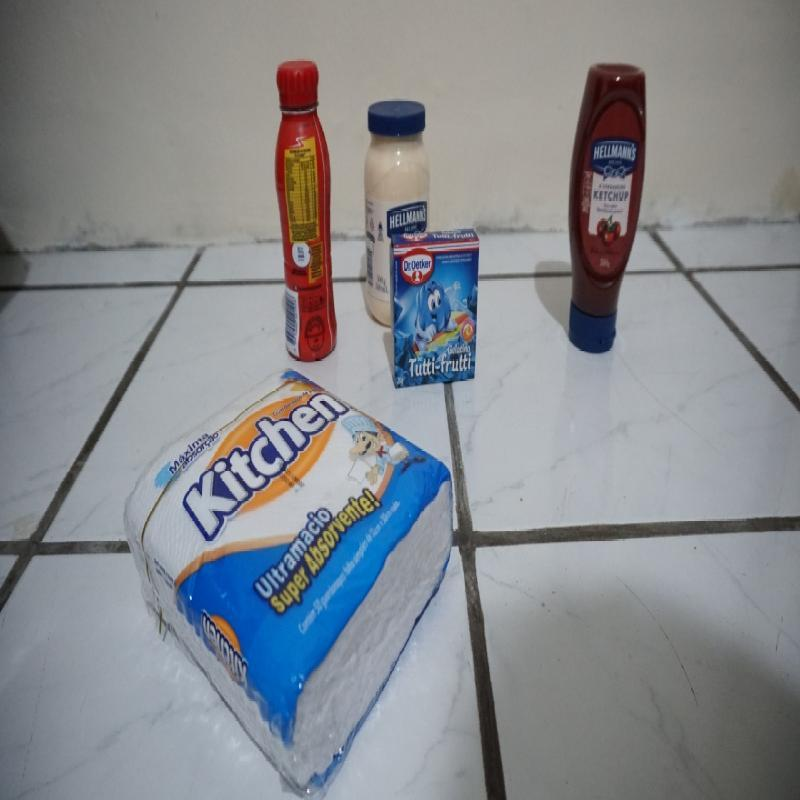Chocolate Milk: (273, 58, 339, 362)
Gelatine: (388, 224, 482, 388)
Ketchup: (566, 64, 646, 353)
Mayonnaise: (363, 101, 430, 323)
Napkin: (122, 368, 455, 788)
